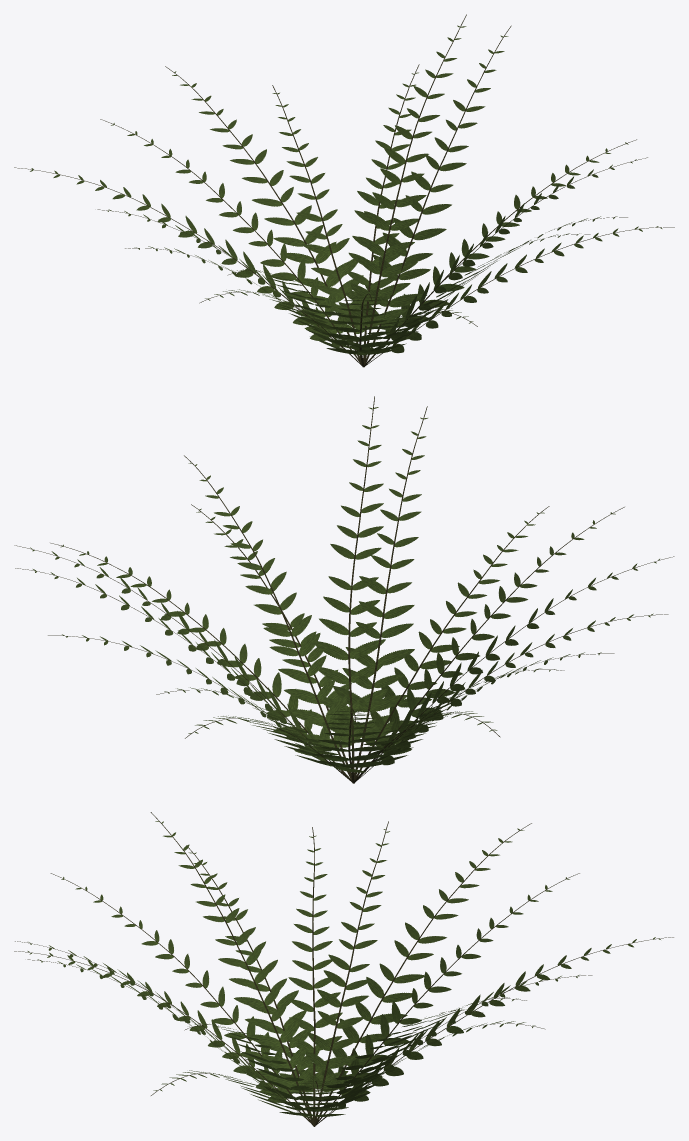
Rendered from lady_fern_v01_LOD1.fbx.
The picture shows the model from 3 angles, top to bottom: view 1: azimuth 30°, elevation 25°; view 2: azimuth 150°, elevation 25°; view 3: azimuth 270°, elevation 25°; orthographic projection. The views are drawn at different scales.
Visible parts, largest first — view 1: lady_fern_v01_LOD1; view 2: lady_fern_v01_LOD1; view 3: lady_fern_v01_LOD1.
Boxes of the visible parts, x1=… form: lady_fern_v01_LOD1: x1=14, y1=14, x2=674, y2=367; lady_fern_v01_LOD1: x1=14, y1=396, x2=674, y2=783; lady_fern_v01_LOD1: x1=14, y1=812, x2=673, y2=1126.
Bounding box in the file's own units: 111 × 46.03 × 121.
Materials: 2 (2 with a texture image).
